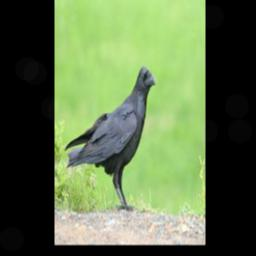Crow: (63, 64, 156, 211)
